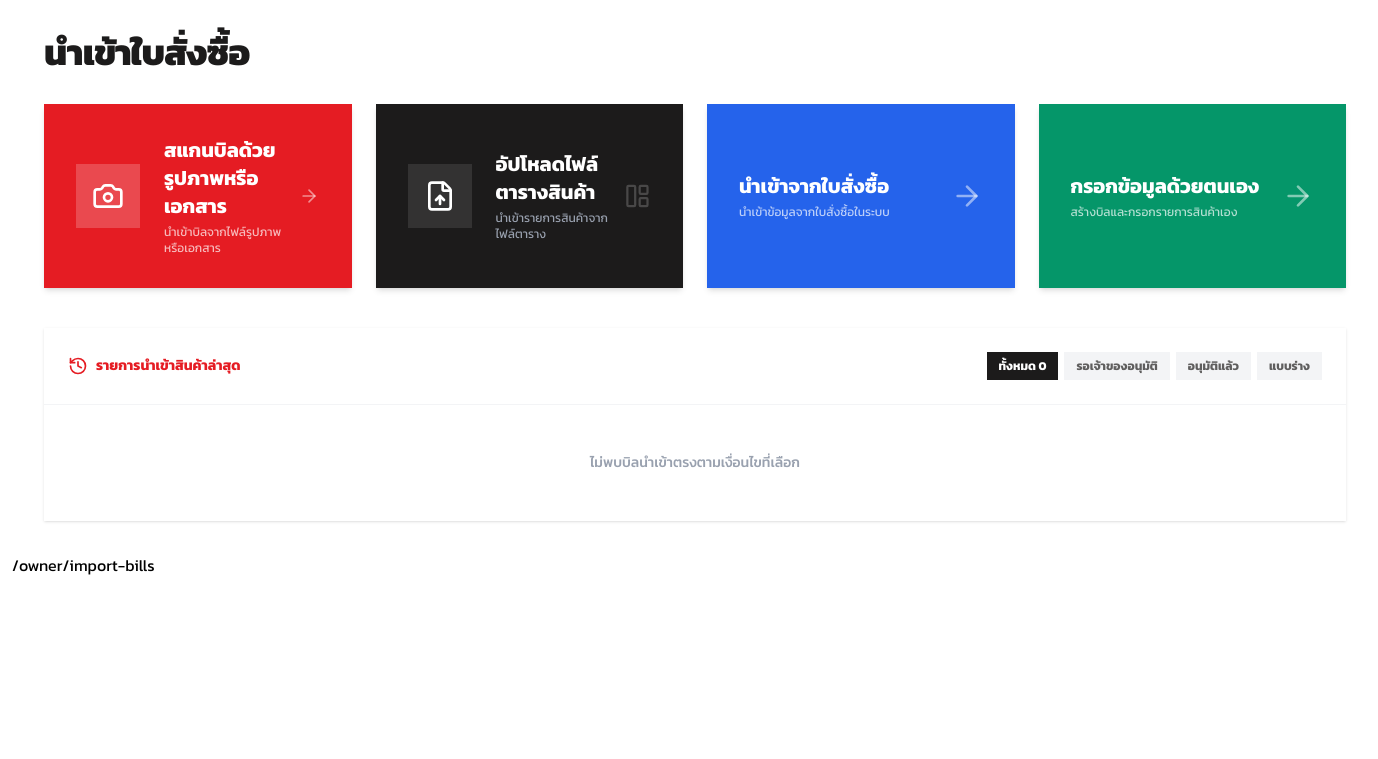
Scenario: Import bill workflows for owner (real views, mocked network) › does not carry over a leftover PO reference when starting a brand-new manual entry from home
Click the heading "กรอกข้อมูลด้วยตนเอง".
click(1165, 186)  # box [1070,172,1260,200]
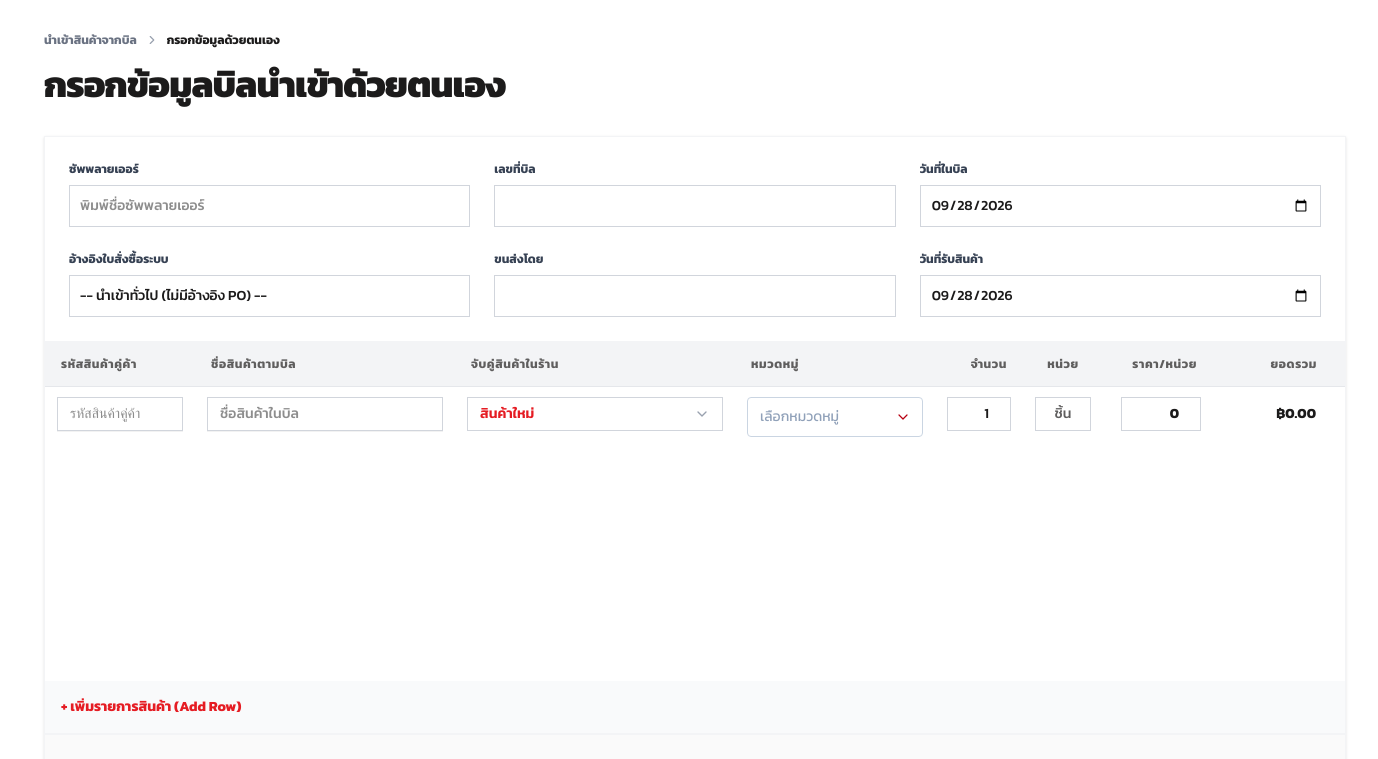
Result: the dropdown shows "-- นำเข้าทั่วไป (ไม่มีอ้างอิง PO) --" at [69,275,470,317]
